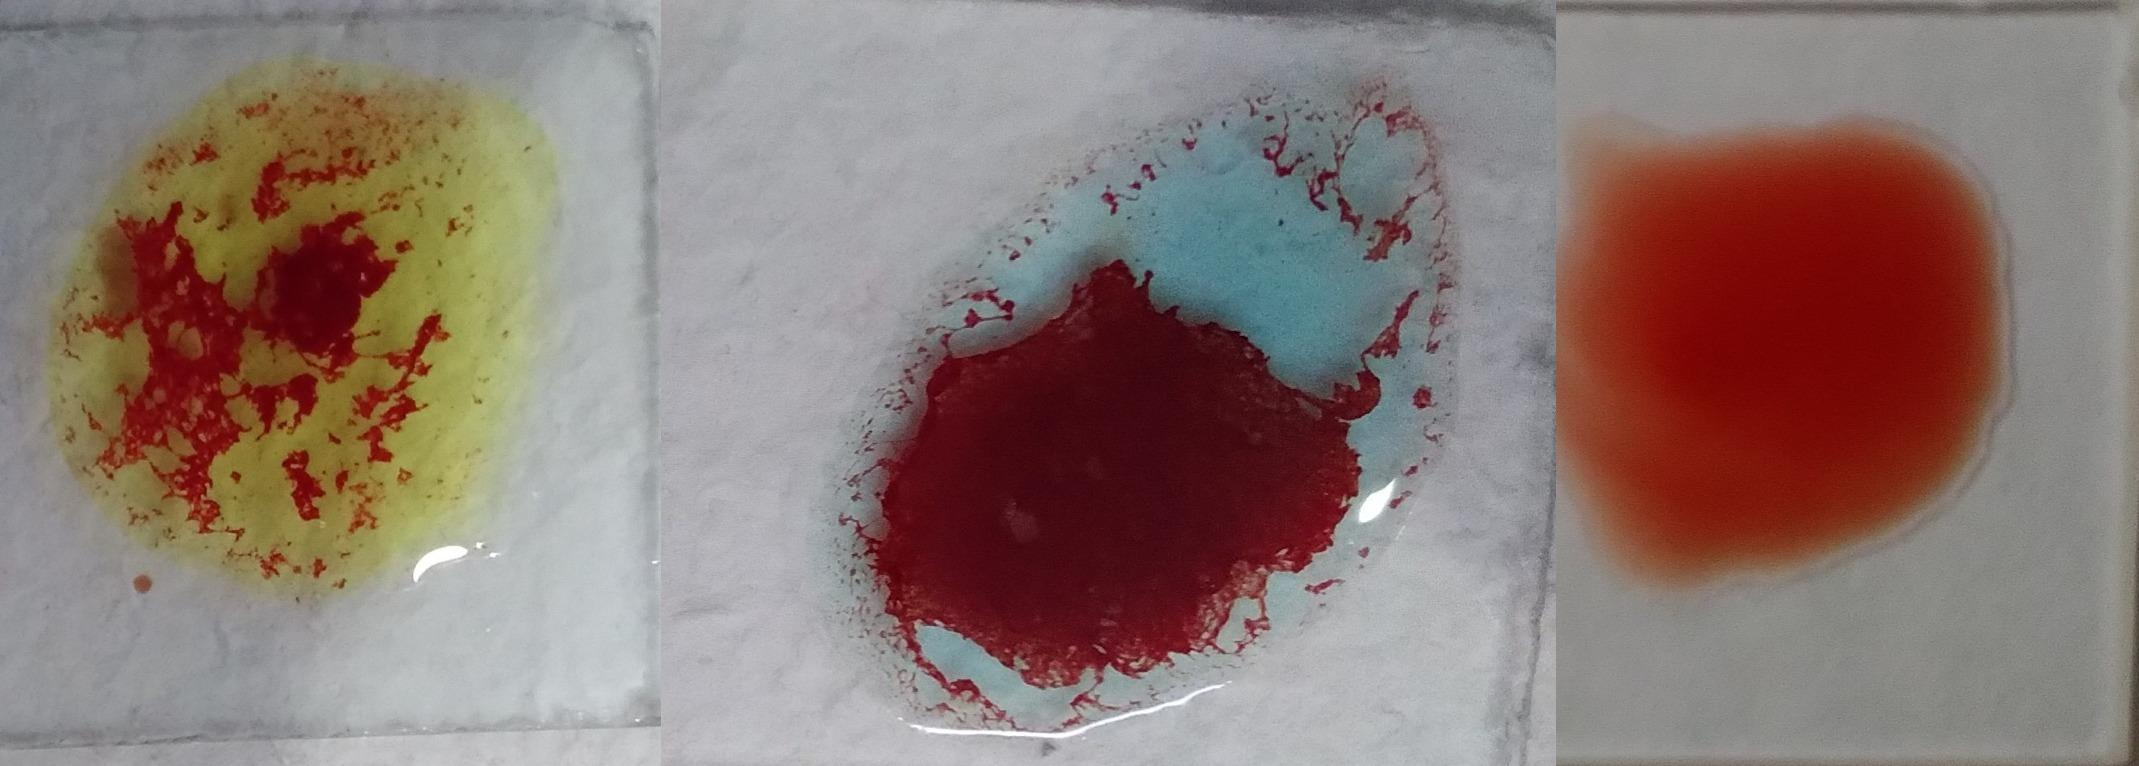A: (838, 68, 1454, 736)
B: (56, 55, 527, 586)
